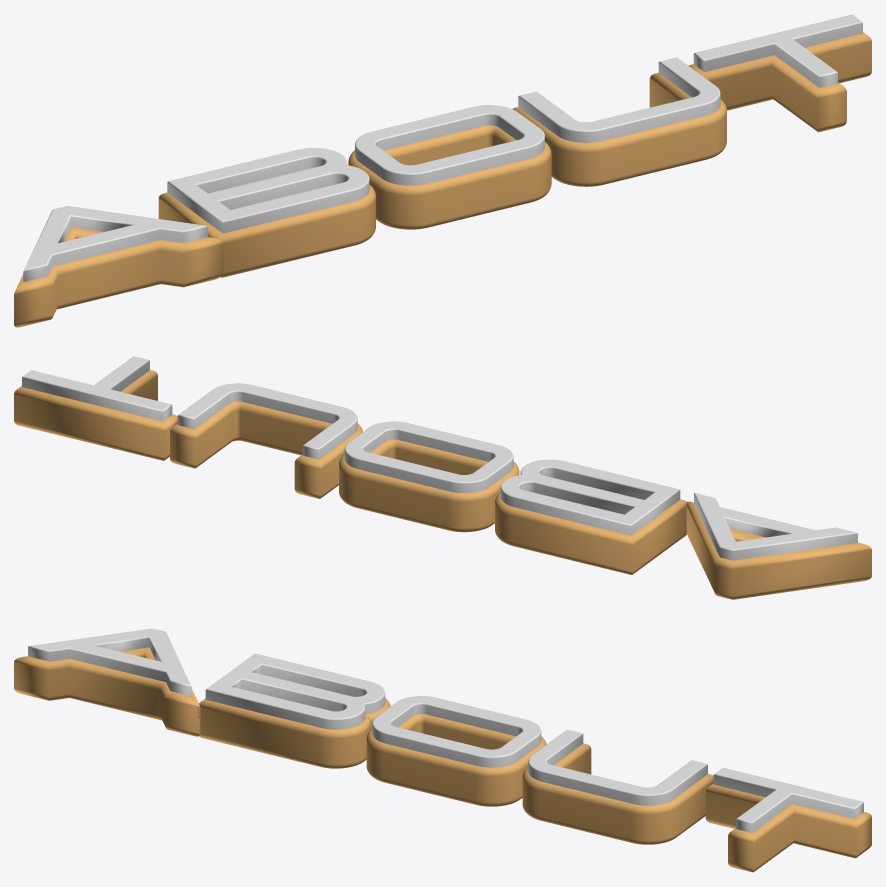
Rendered from ABOUT.glb.
3 views of the same model, one above another, from view 1: azimuth 30°, elevation 25°; view 2: azimuth 150°, elevation 25°; view 3: azimuth 330°, elevation 25° (orthographic). The views are drawn at different scales.
Visible parts, largest first — view 1: Bevel, Text_projekte; view 2: Bevel, Text_projekte; view 3: Bevel, Text_projekte.
Part boxes in pixels (x1=…): Bevel: x1=14, y1=32, x2=871, y2=327; Text_projekte: x1=23, y1=14, x2=862, y2=282; Bevel: x1=14, y1=370, x2=871, y2=599; Text_projekte: x1=22, y1=356, x2=857, y2=560; Bevel: x1=14, y1=647, x2=871, y2=872; Text_projekte: x1=28, y1=628, x2=863, y2=832.
Size of the model in its own units: 6.43 by 0.3801 by 0.7665.
